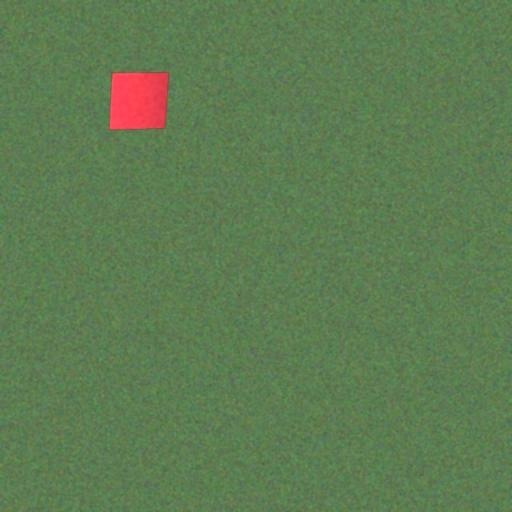RED_SQUARE: (108, 72, 170, 130)
